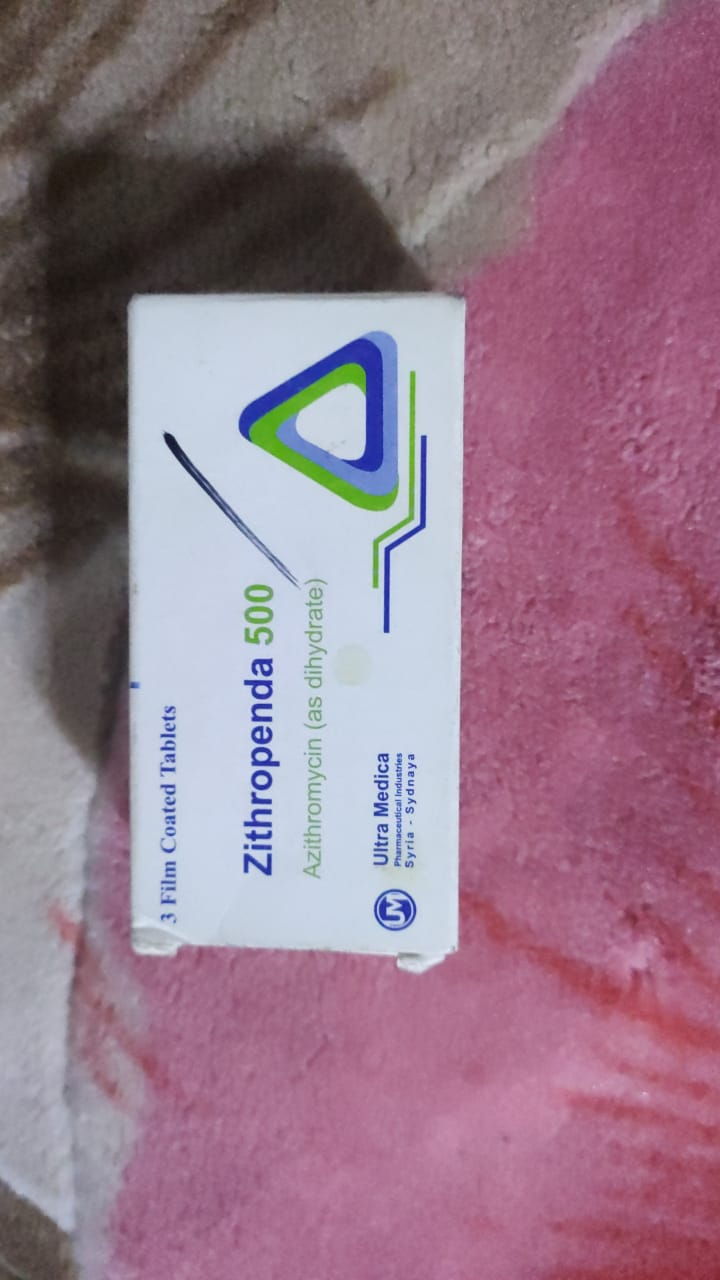Medicine: (110, 283, 477, 973)
